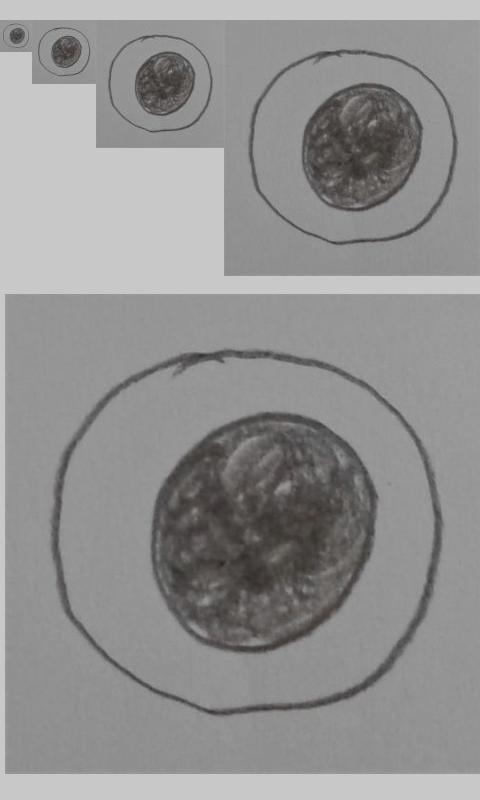radio_button: (49, 344, 446, 722), (245, 46, 461, 248), (107, 33, 215, 133), (37, 26, 91, 77), (2, 22, 30, 49)
